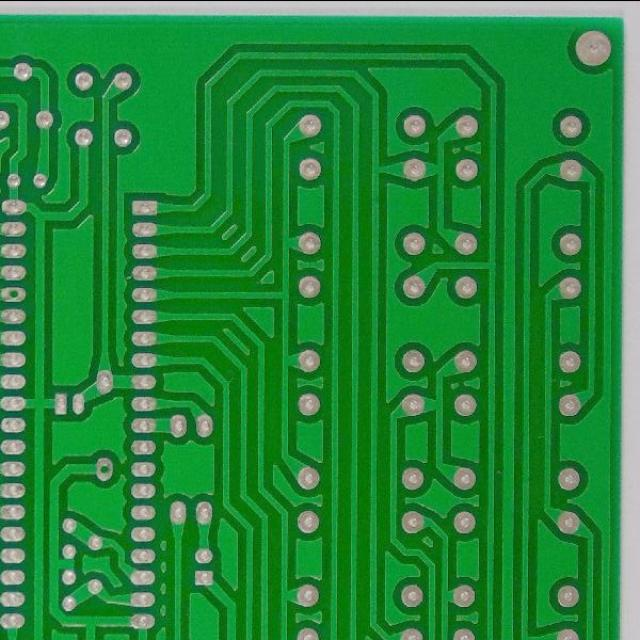Missing_Hole: (93, 457, 116, 482), (1, 283, 27, 304)
